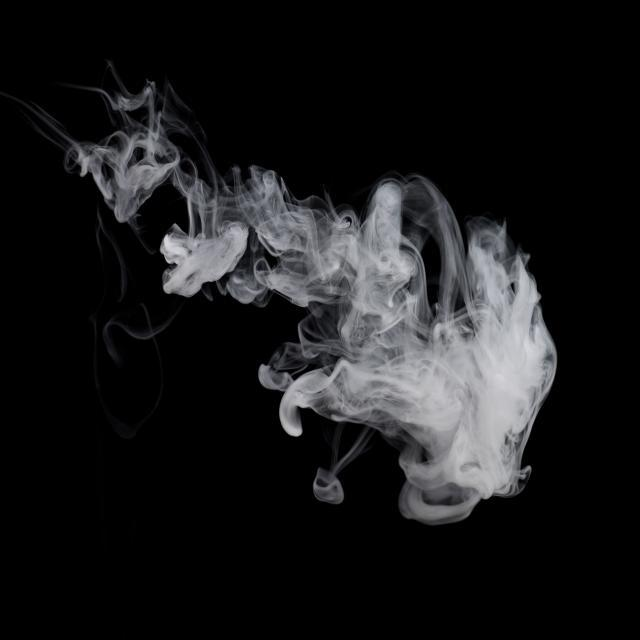Smoke: (0, 62, 558, 524)
